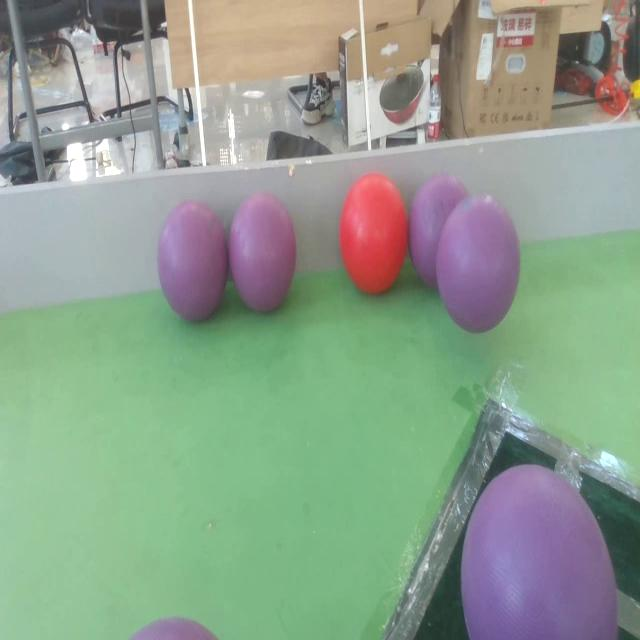invalid: (461, 464, 616, 640), (438, 191, 517, 326), (408, 176, 477, 297), (230, 194, 295, 308), (162, 202, 224, 318), (116, 620, 231, 640)
red: (338, 171, 408, 297)
